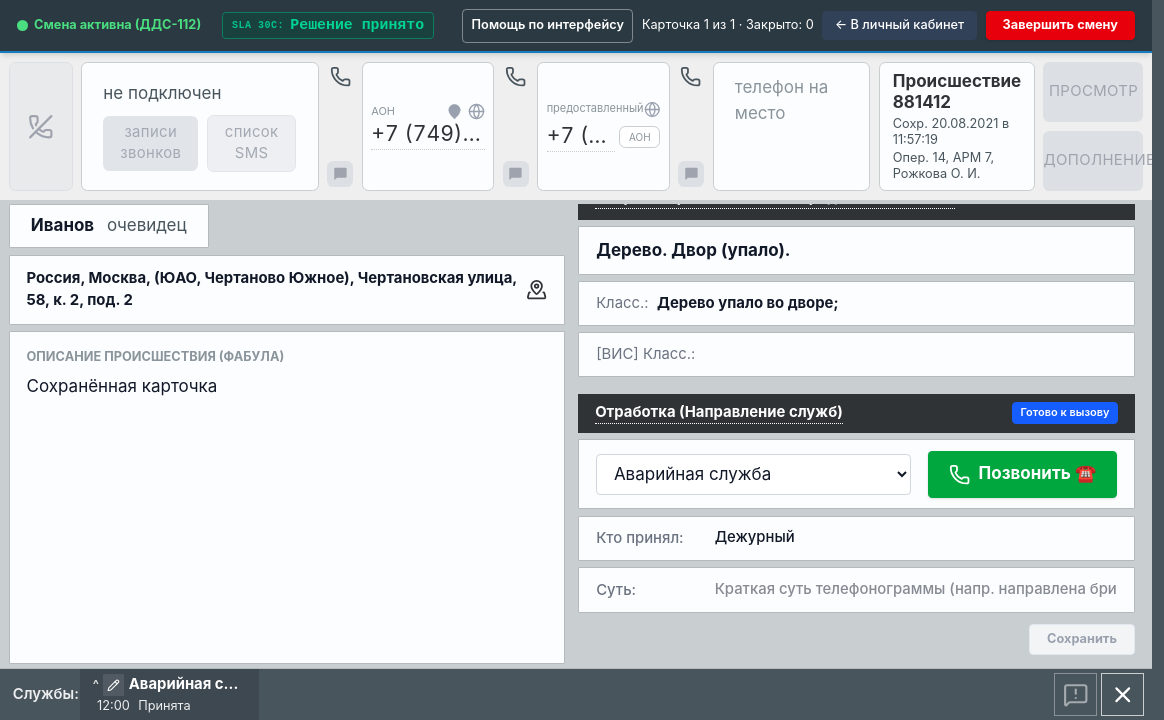
Test case: Interface familiarization › cannot open help during a save or while its result remains uncertain
Earlier steps of the test are not shown.
Later steps or results of the test are not shown.
(page scrolled)
Replace the text in the field named "Суть сообщения" with "Поручение" at coordinates (916, 590), box top-left (715, 579), bottom-right (1117, 601)
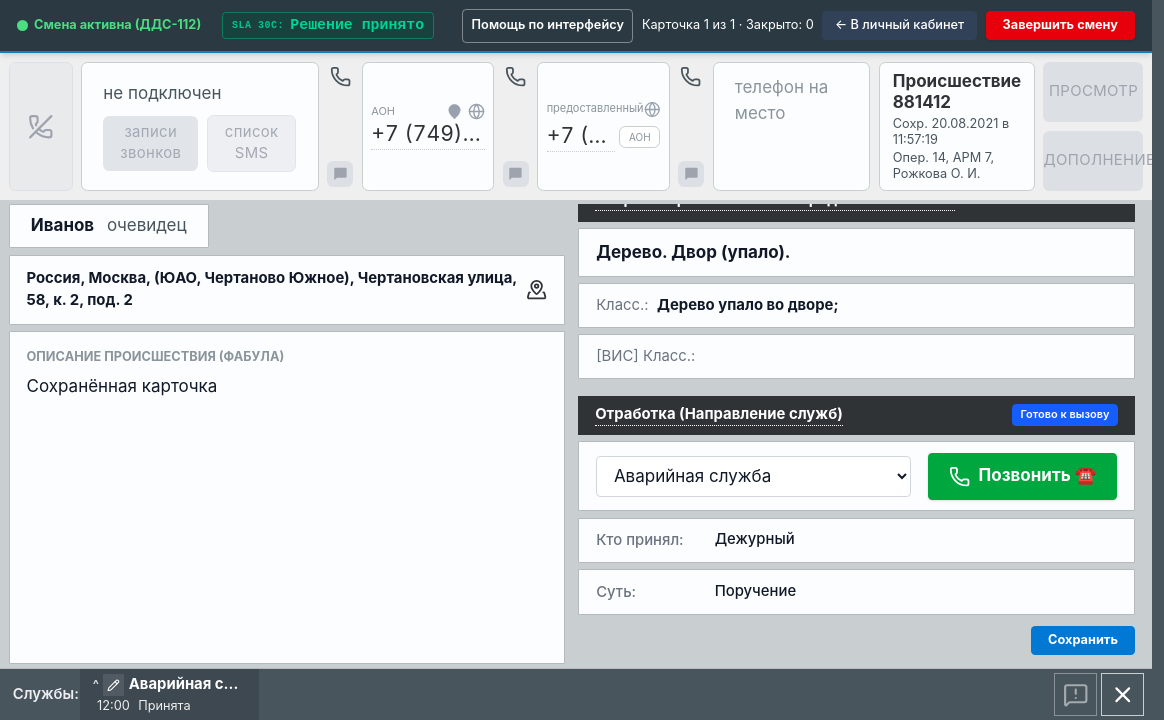
Click the button "Сохранить".
click(1083, 640)  # box top-left (1031, 626), bottom-right (1135, 655)
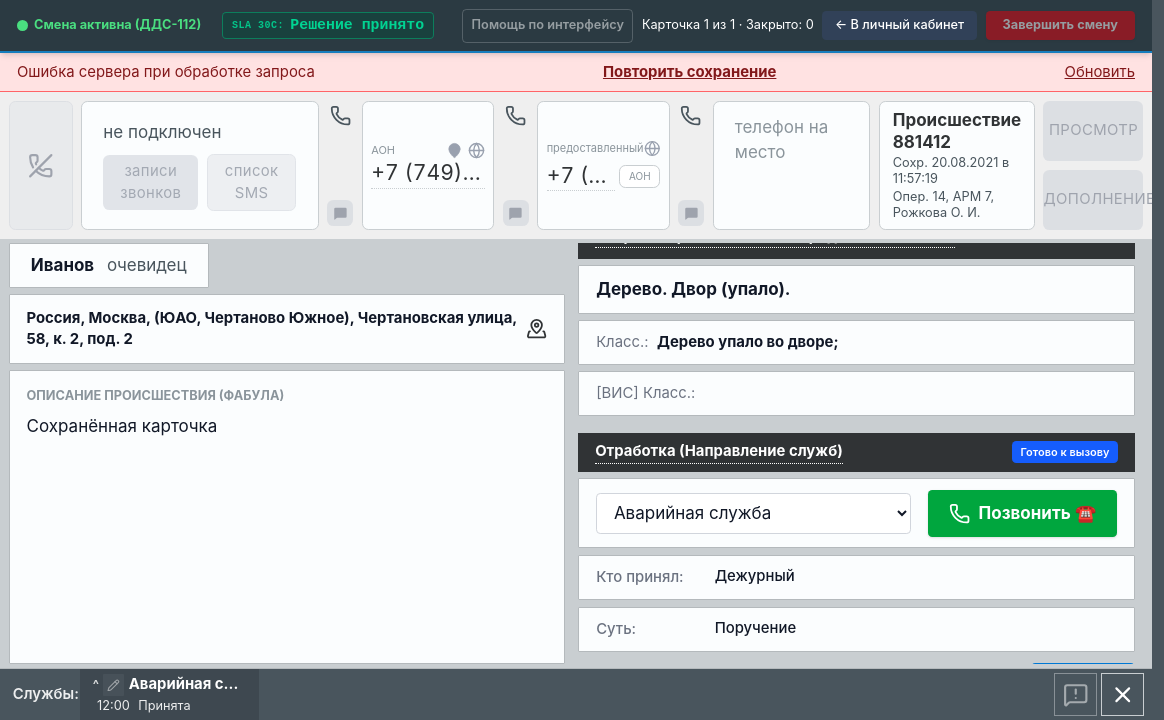
expect the button "Повторить сохранение" is shown: met, box top-left (603, 62), bottom-right (776, 83)
expect the button "Помощь по интерфейсу" is disabled: met, box top-left (462, 8), bottom-right (633, 42)
